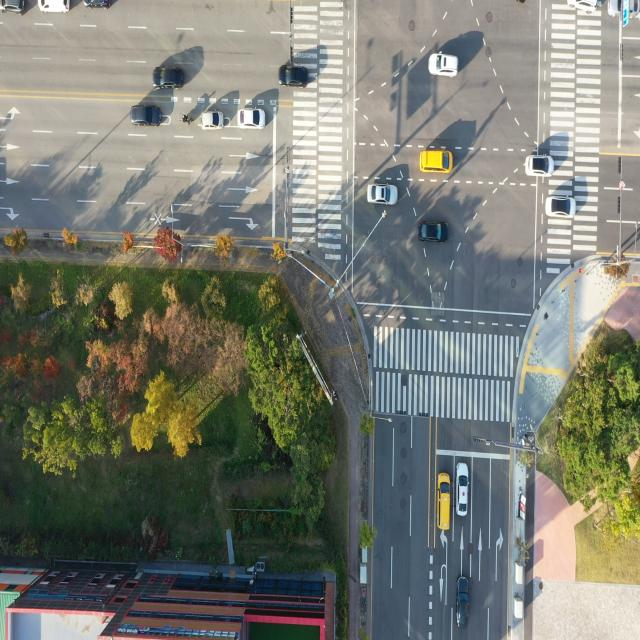car: (152, 64, 186, 93), (438, 469, 452, 533), (427, 52, 459, 79), (421, 150, 453, 176), (455, 576, 470, 630), (545, 192, 576, 218), (457, 464, 471, 520), (131, 104, 161, 128), (524, 153, 554, 177), (418, 220, 448, 243), (369, 182, 398, 205), (281, 67, 308, 88), (239, 108, 264, 128), (608, 0, 640, 15), (202, 110, 225, 130), (0, 0, 28, 16), (566, 0, 597, 14), (36, 0, 68, 13), (80, 0, 112, 11)
